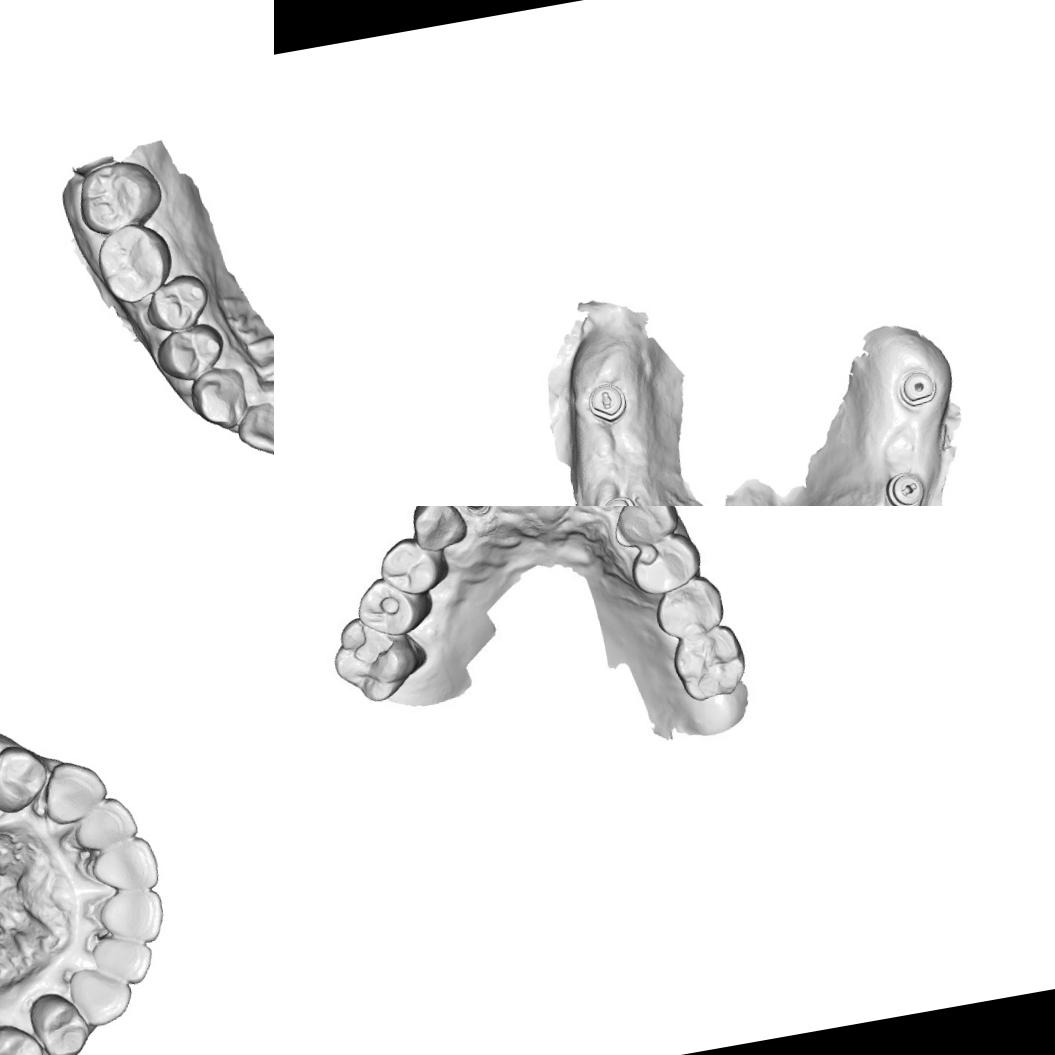canine: (36, 752, 112, 829), (64, 958, 138, 1030), (185, 362, 250, 435), (602, 506, 680, 551), (403, 506, 472, 555)
implant: (894, 366, 941, 410)
implant_minus: (582, 374, 631, 426), (880, 467, 928, 506), (595, 490, 645, 506)
incisor: (82, 833, 164, 901), (93, 882, 169, 952), (66, 791, 140, 856), (88, 932, 157, 990), (232, 399, 274, 461)
molar: (326, 607, 426, 709), (71, 152, 167, 240), (91, 218, 178, 308), (666, 621, 752, 705)
premolar: (647, 570, 730, 643), (623, 527, 706, 599), (372, 529, 452, 603), (350, 571, 425, 643), (151, 320, 229, 386), (24, 985, 94, 1055), (140, 270, 213, 336), (0, 739, 54, 817), (0, 1015, 46, 1055)
